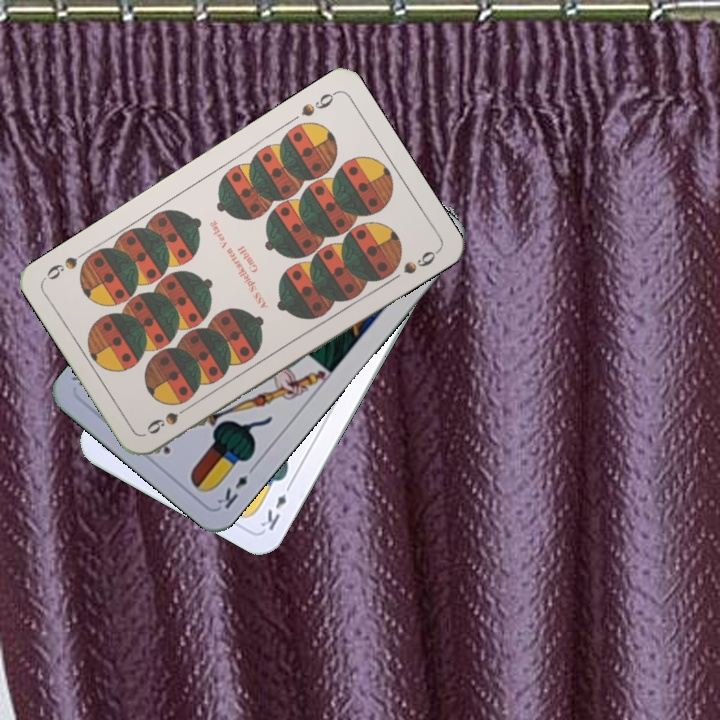EK: (212, 460, 259, 512), (256, 478, 295, 533)
S9: (142, 400, 195, 437), (297, 87, 339, 119)
